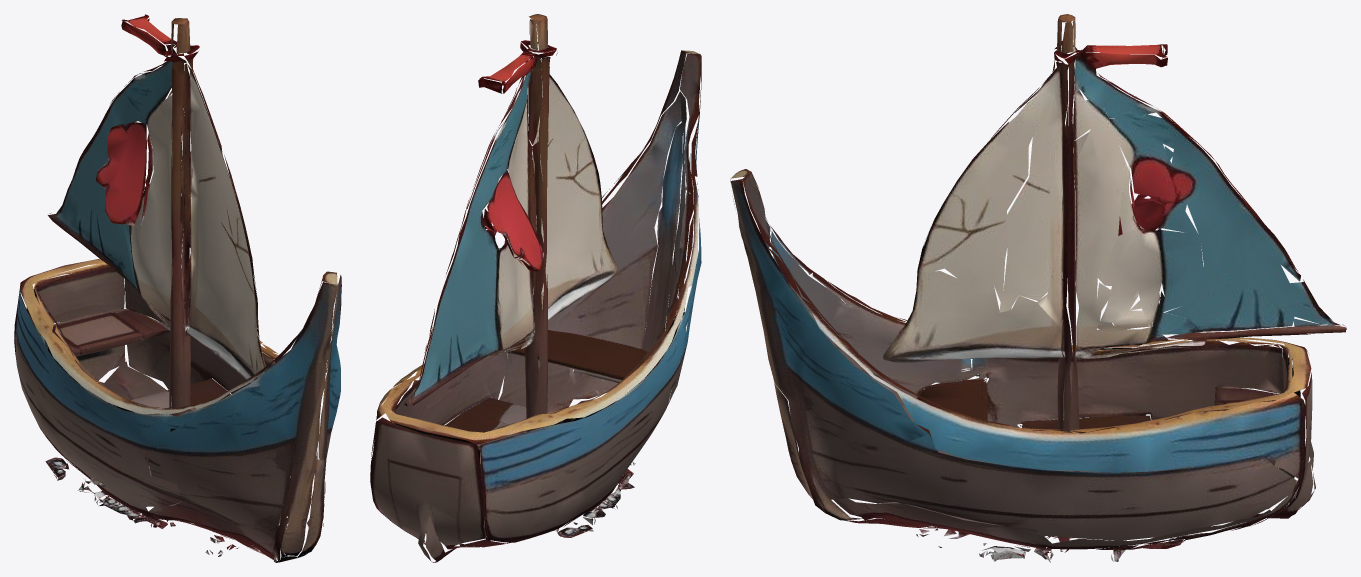
File: oyuncak_tekne.glb
3 renders of one model, left to right at view 1: azimuth 30°, elevation 25°; view 2: azimuth 150°, elevation 25°; view 3: azimuth 270°, elevation 25°, orthographic. The views are drawn at different scales.
Parts seen in each view (by area): view 1: geometry_0; view 2: geometry_0; view 3: geometry_0.
Part boxes in pixels (left/top/right/bottom): geometry_0: left=14, top=14, right=341, bottom=562; geometry_0: left=370, top=14, right=701, bottom=562; geometry_0: left=730, top=14, right=1346, bottom=562.
Bounding box in the file's own units: 0.3705 × 0.9423 × 1.
Materials: 1 (1 with a texture image).
